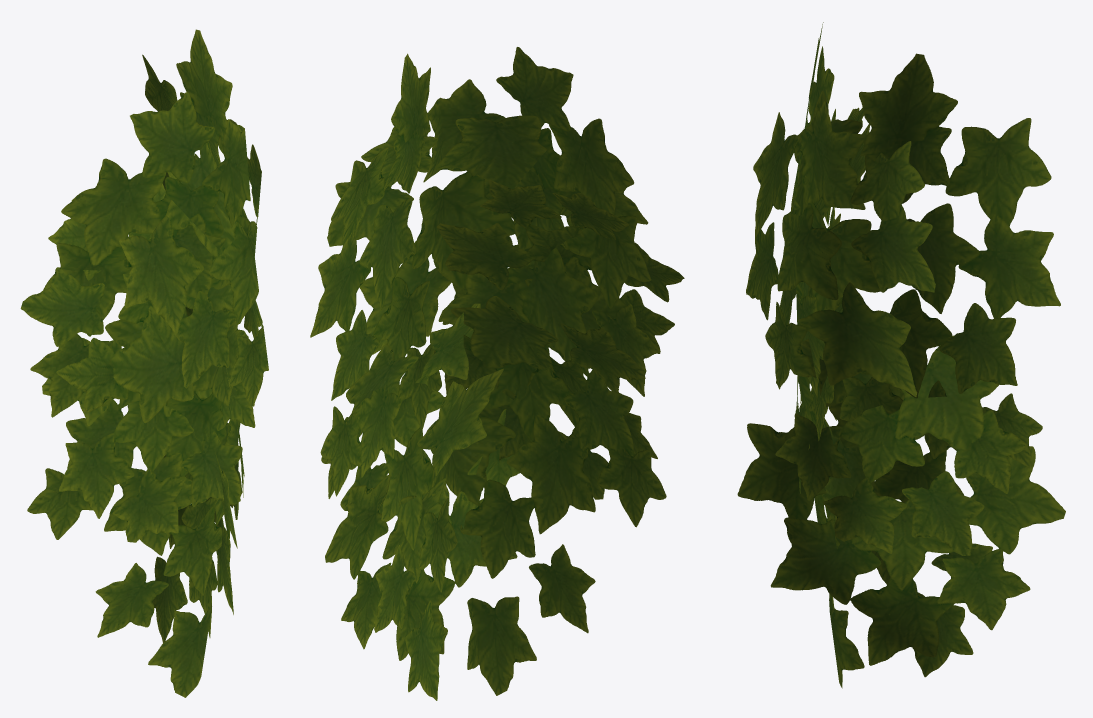
Rendered from MSH_fwOF_Ivy_Corner_01.fbx.
The picture shows the model from 3 angles, left to right: view 1: azimuth 30°, elevation 25°; view 2: azimuth 150°, elevation 25°; view 3: azimuth 270°, elevation 25°; orthographic projection. The views are drawn at different scales.
Parts seen in each view (by area): view 1: MSH_fwOF_Ivy_Corner_01_LOD0; view 2: MSH_fwOF_Ivy_Corner_01_LOD0; view 3: MSH_fwOF_Ivy_Corner_01_LOD0.
Boxes of the visible parts, x1,y1,x2,y2 form: MSH_fwOF_Ivy_Corner_01_LOD0: (20, 29, 268, 697); MSH_fwOF_Ivy_Corner_01_LOD0: (310, 47, 684, 700); MSH_fwOF_Ivy_Corner_01_LOD0: (737, 22, 1065, 688).
Size of what is drawn, in the model's own units: 0.4085 by 0.8249 by 0.3836.
